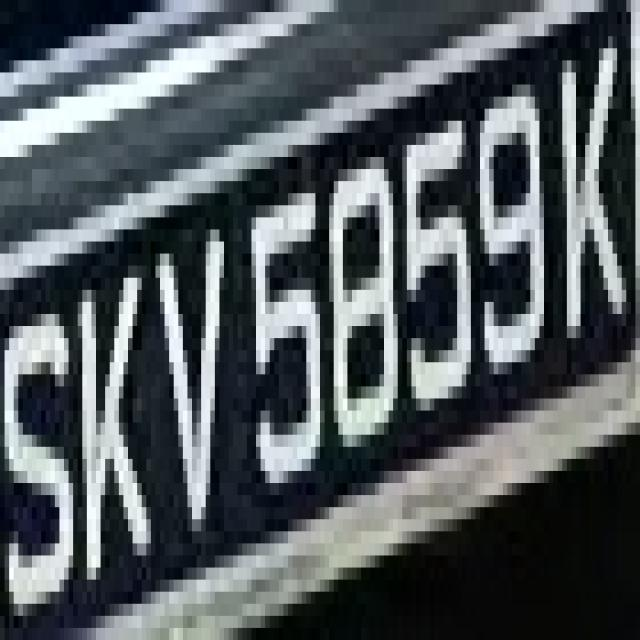5: (398, 72, 480, 422), (242, 193, 334, 483)
8: (320, 133, 421, 483)
9: (457, 48, 553, 374)
K: (73, 193, 165, 616), (553, 0, 630, 374)
S: (0, 241, 82, 640)
V: (146, 157, 238, 555)
